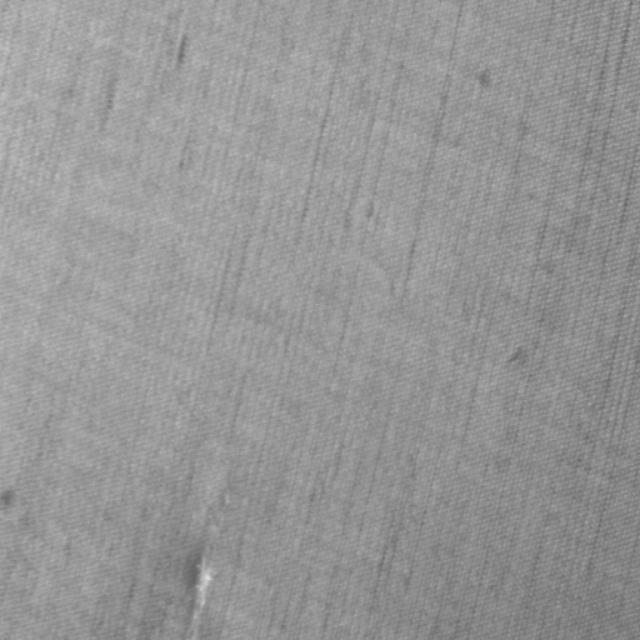thread error: (178, 521, 224, 635)
